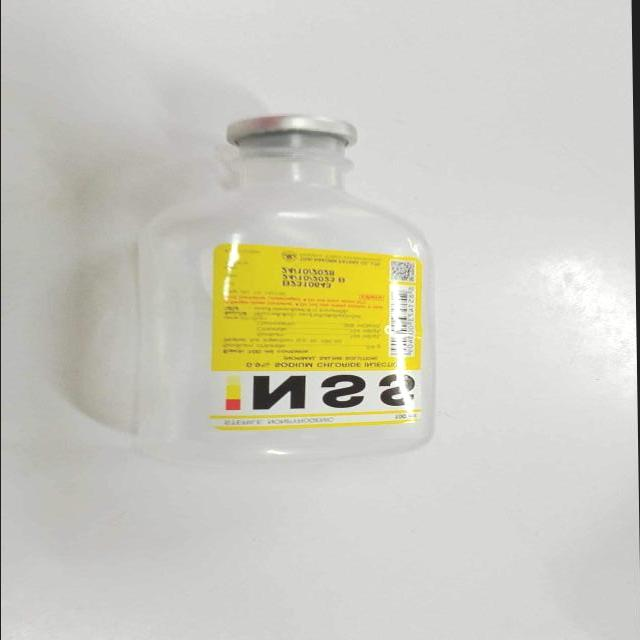General: (206, 241, 425, 433)
Sharps: (61, 113, 438, 469)
